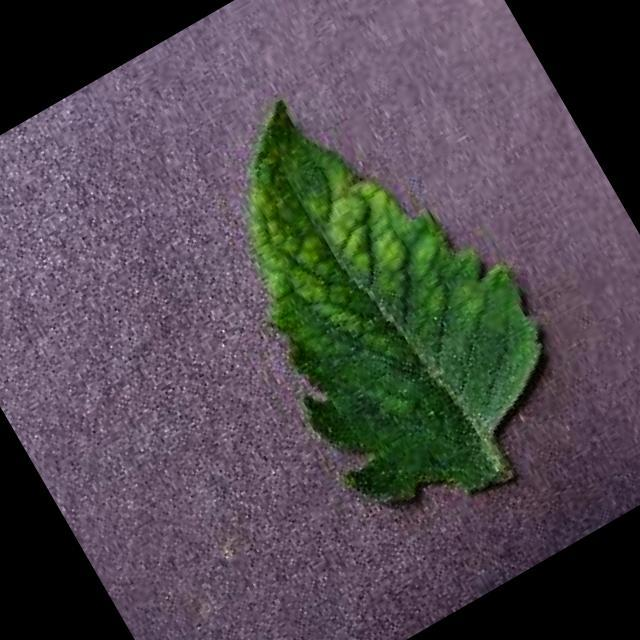Tomato mosaic virus leaf: (157, 38, 592, 534)
